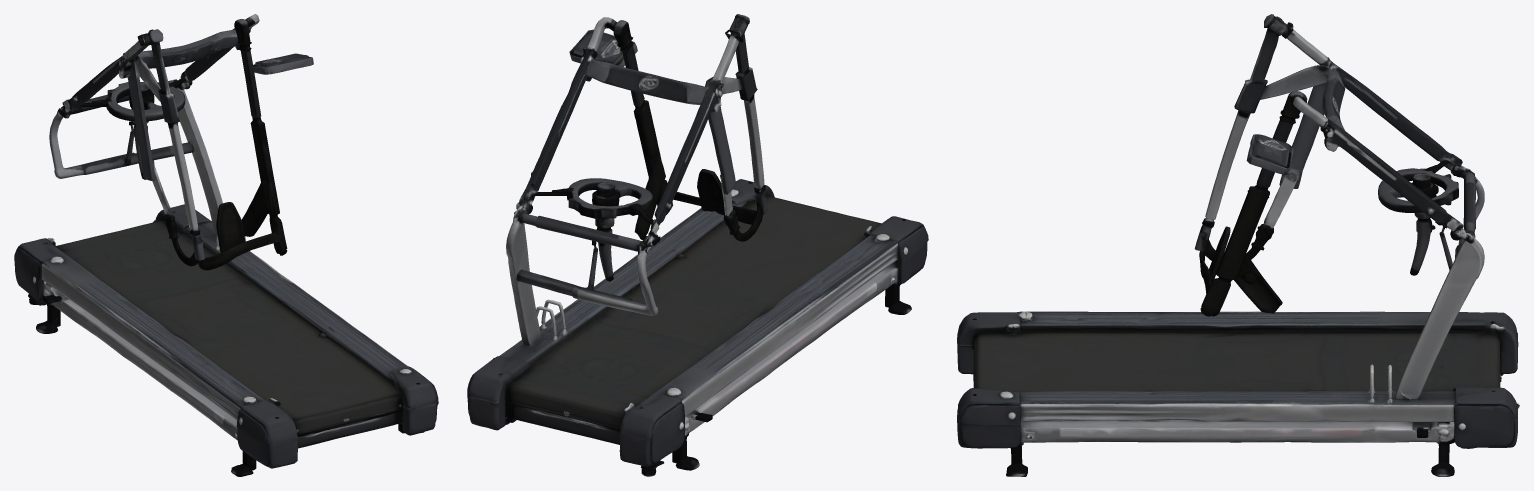
Rendered from treadmill.glb.
The picture shows the model from 3 angles, left to right: view 1: azimuth 30°, elevation 25°; view 2: azimuth 150°, elevation 25°; view 3: azimuth 270°, elevation 25°; orthographic projection. The views are drawn at different scales.
Visible parts, largest first — view 1: tripo_node_b551f8a1-02f1-493c-94a7-678228b38588; view 2: tripo_node_b551f8a1-02f1-493c-94a7-678228b38588; view 3: tripo_node_b551f8a1-02f1-493c-94a7-678228b38588.
Boxes of the visible parts, x1,y1,x2,y2 form: tripo_node_b551f8a1-02f1-493c-94a7-678228b38588: (14, 14, 438, 476); tripo_node_b551f8a1-02f1-493c-94a7-678228b38588: (467, 14, 928, 476); tripo_node_b551f8a1-02f1-493c-94a7-678228b38588: (957, 14, 1519, 476).
Size of the model in its own units: 0.4248 by 0.7353 by 0.9814.
1 material, 1 textured.
